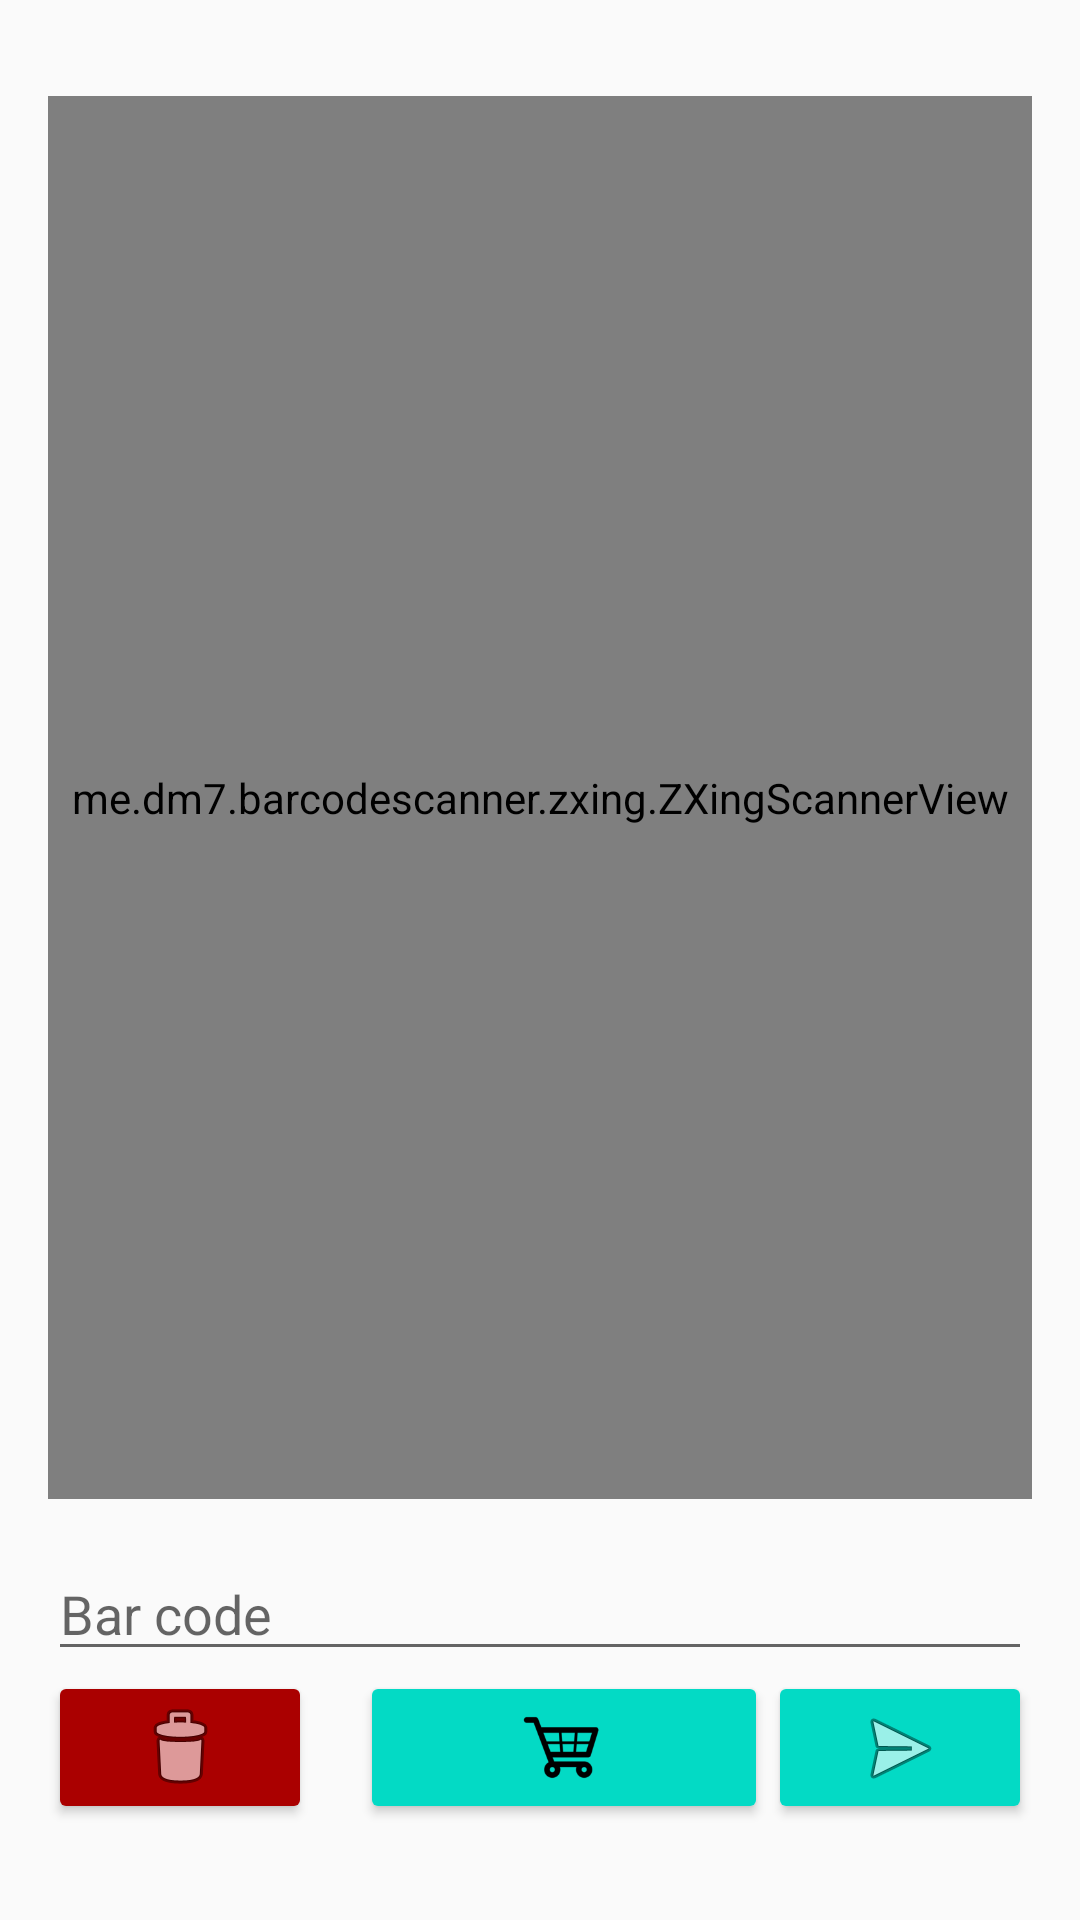

Icon bounding boxes for this 1080×1920 phone screenshot, format (x1, y1, x2, y2):
delete: (59, 1689, 300, 1811)
send: (780, 1689, 1021, 1811)
